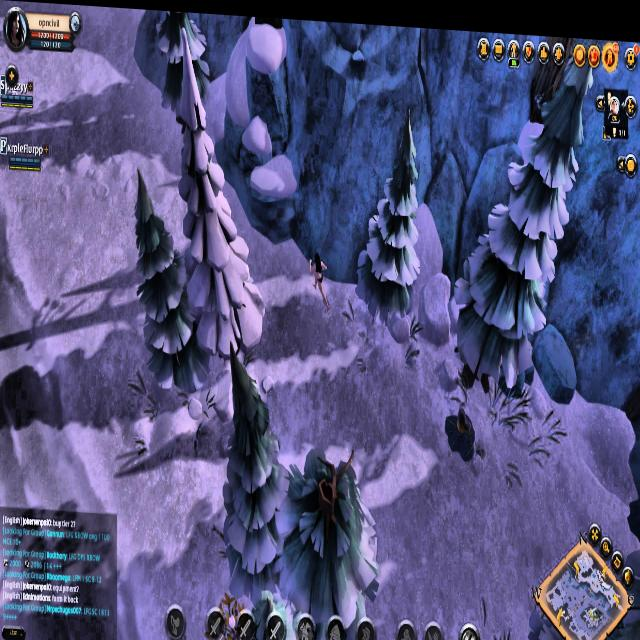copper_ore: (441, 400, 482, 451)
